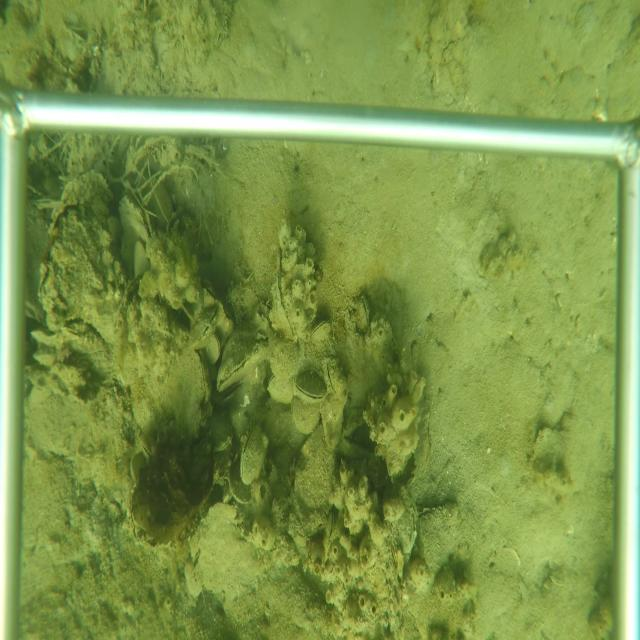Oyster-Closed: (147, 352, 210, 441), (217, 334, 270, 392), (271, 249, 301, 343), (237, 425, 266, 486), (117, 194, 151, 242), (188, 305, 219, 351), (293, 372, 328, 409), (289, 399, 322, 436), (266, 369, 294, 405), (321, 358, 340, 400), (204, 332, 223, 371), (355, 291, 372, 331), (310, 319, 333, 346)
Oyster-Indeterminate: (292, 423, 337, 518)
